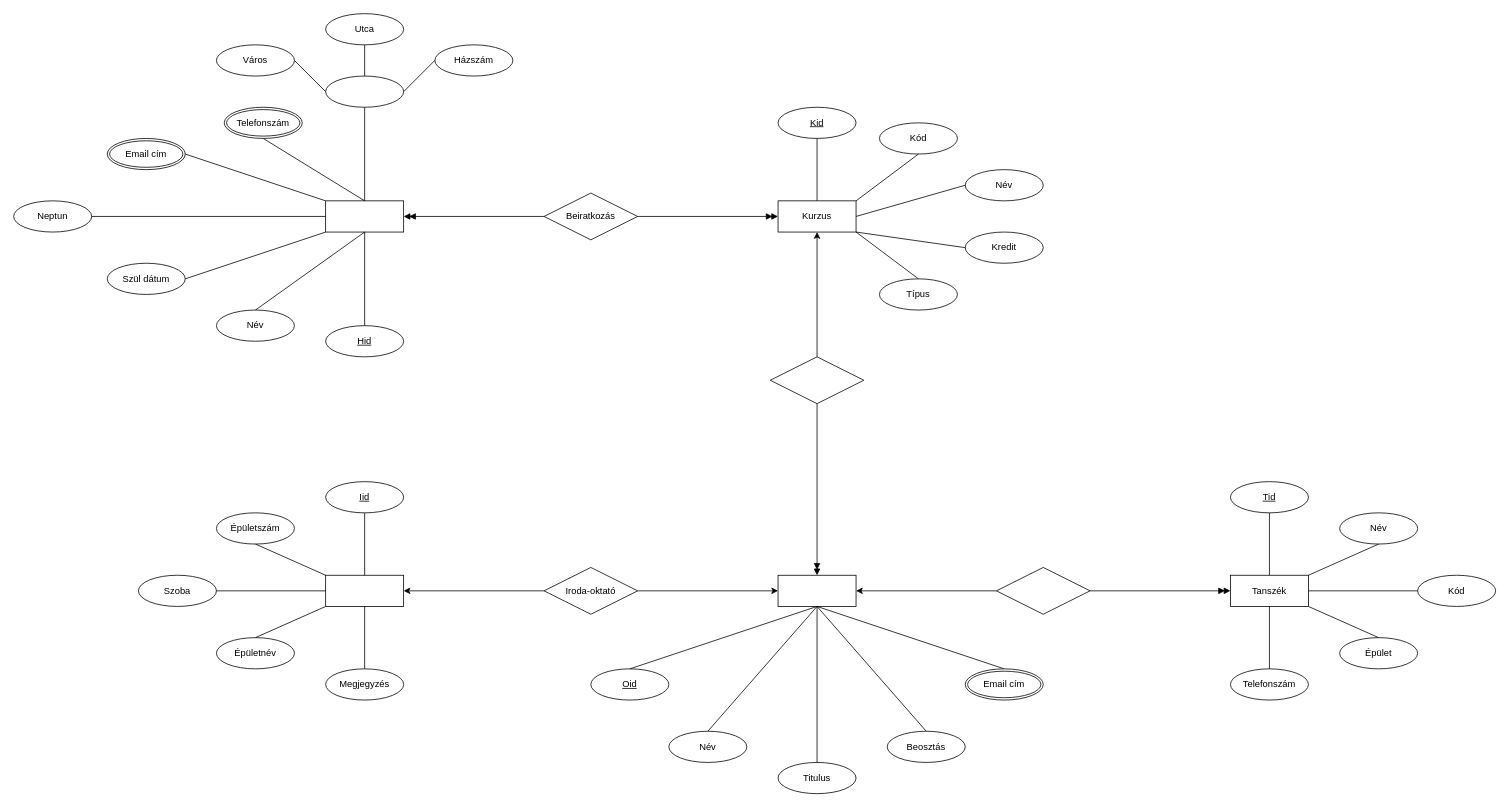
Some shapes in this 1509 by 807 pixel diagram are drawn without their labels. The shapes that lost their labels are listed below. From the top down, each one's centre as x and y in pixels, then its label:
point (364, 91): (Cím)
point (364, 216): Hallgató
point (816, 380): Oktató-kurzus
point (364, 590): Iroda
point (816, 590): Oktató
point (1043, 590): Oktató-tanszék
